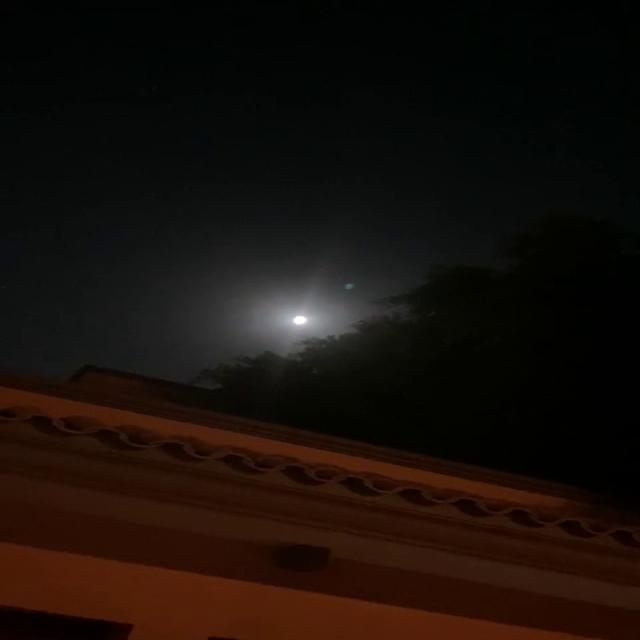moon: (273, 304, 328, 331)
